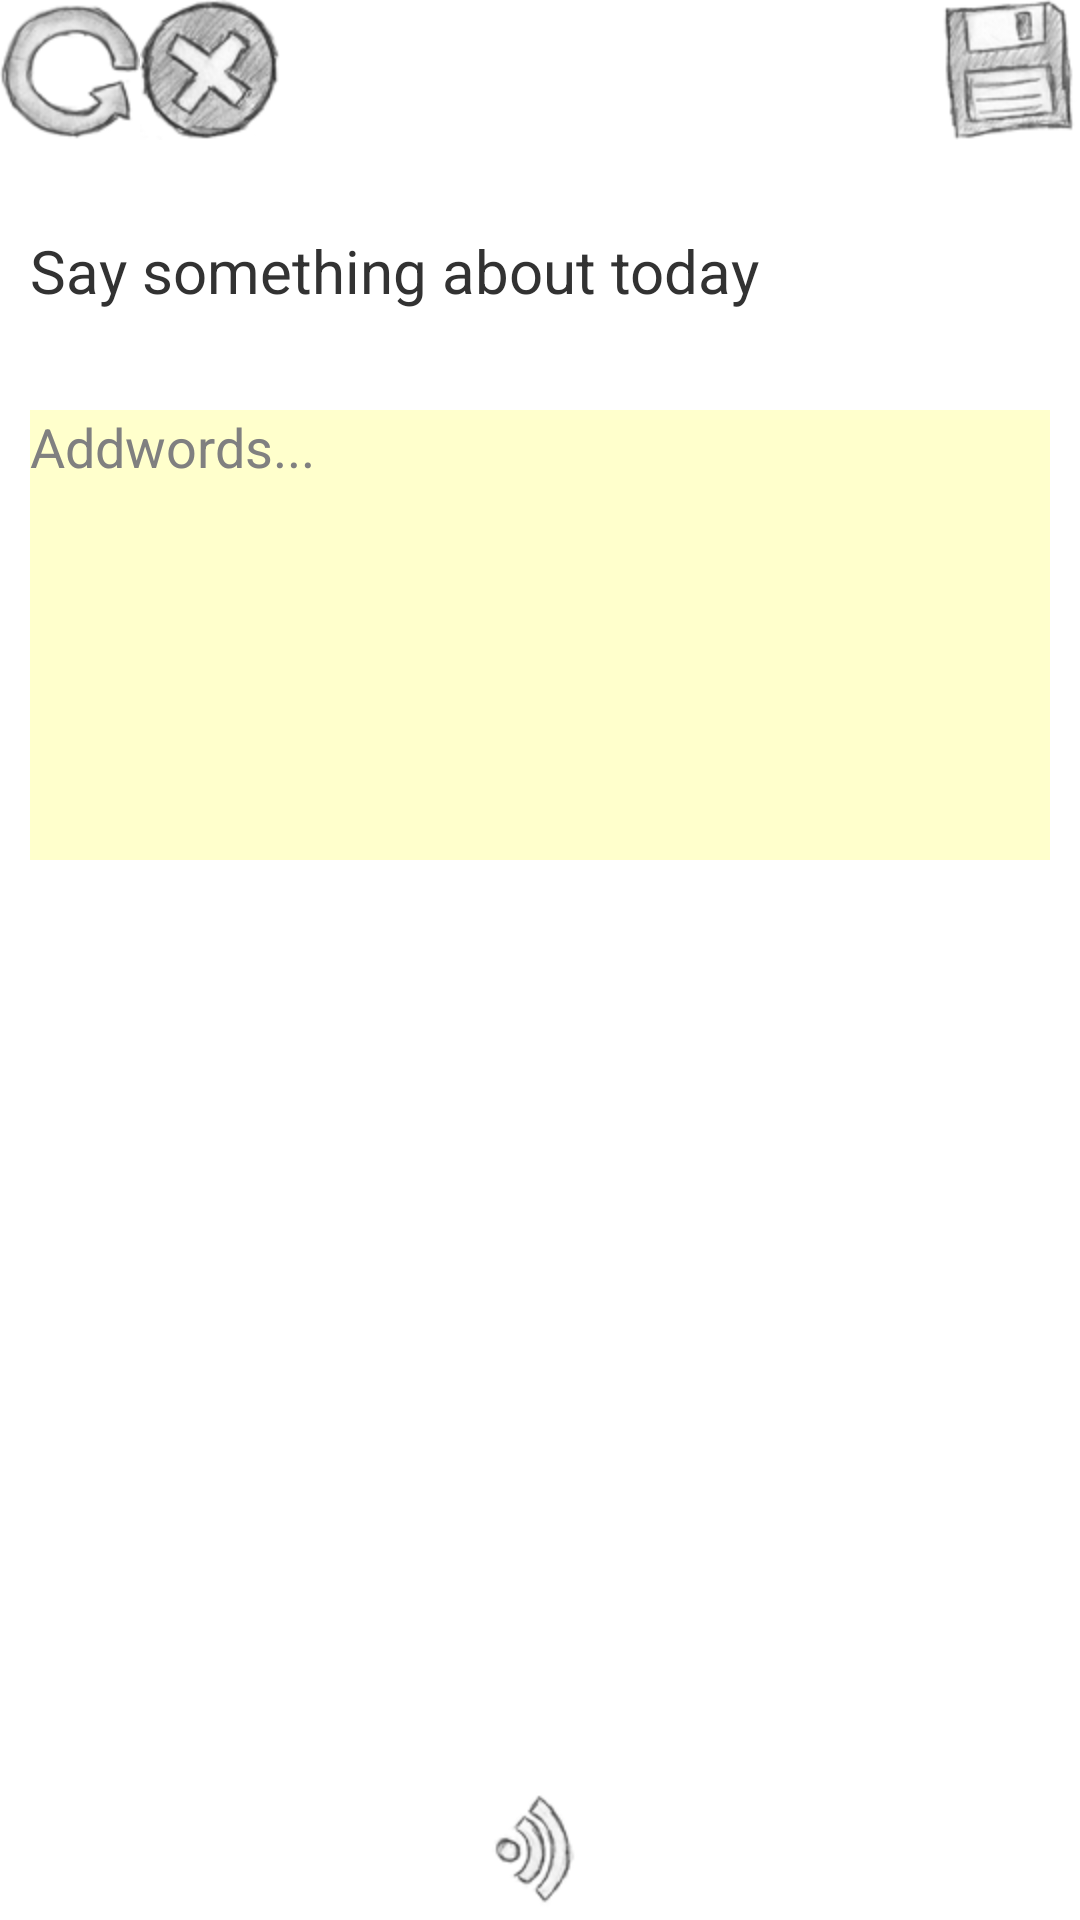

Named icons in this screenshot (1080 x 1920) and their bounding boxes, Rect(x1, y1, x2, y2):
delete: Rect(140, 1, 279, 139)
finishi: Rect(945, 1, 1073, 139)
replay: Rect(1, 6, 140, 138)
startrecord: Rect(495, 1796, 573, 1902)
